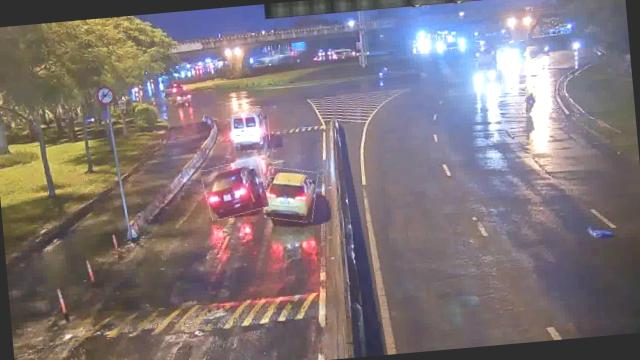Bike: (524, 88, 540, 116)
Bus: (226, 107, 270, 149)
Car: (201, 160, 268, 220), (262, 165, 320, 224)
